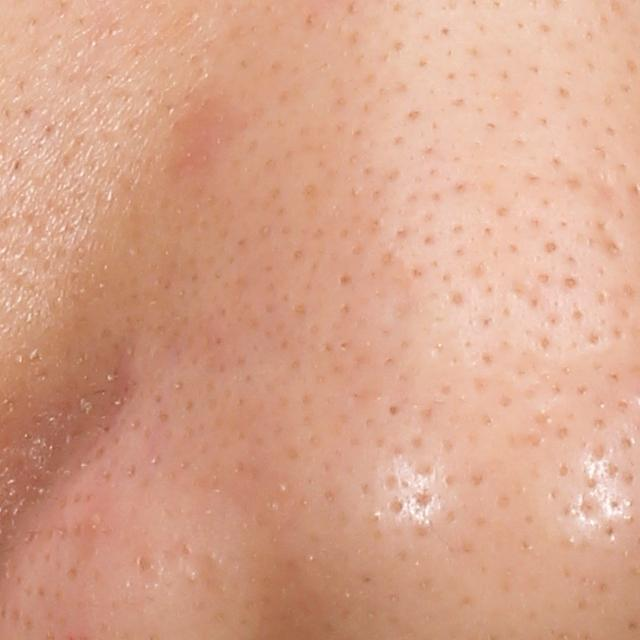atrophic_scar: (594, 215, 622, 258)
comedo: (560, 273, 580, 291)
